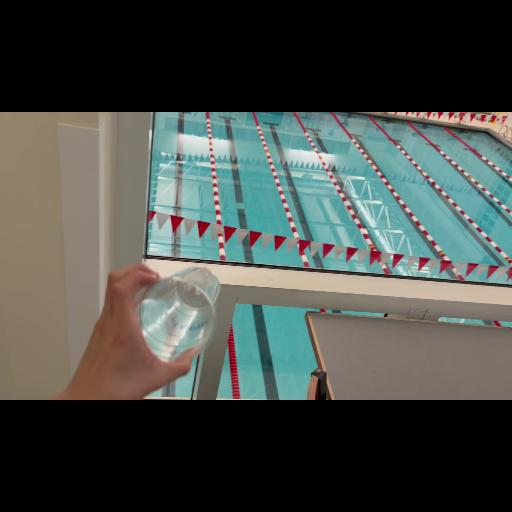lp_plastic_cup: (124, 260, 228, 364)
